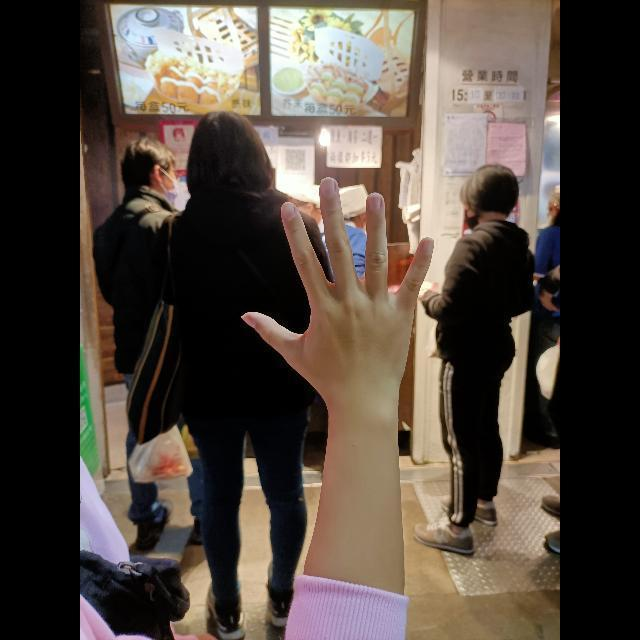bare_hand: (242, 176, 435, 400)
